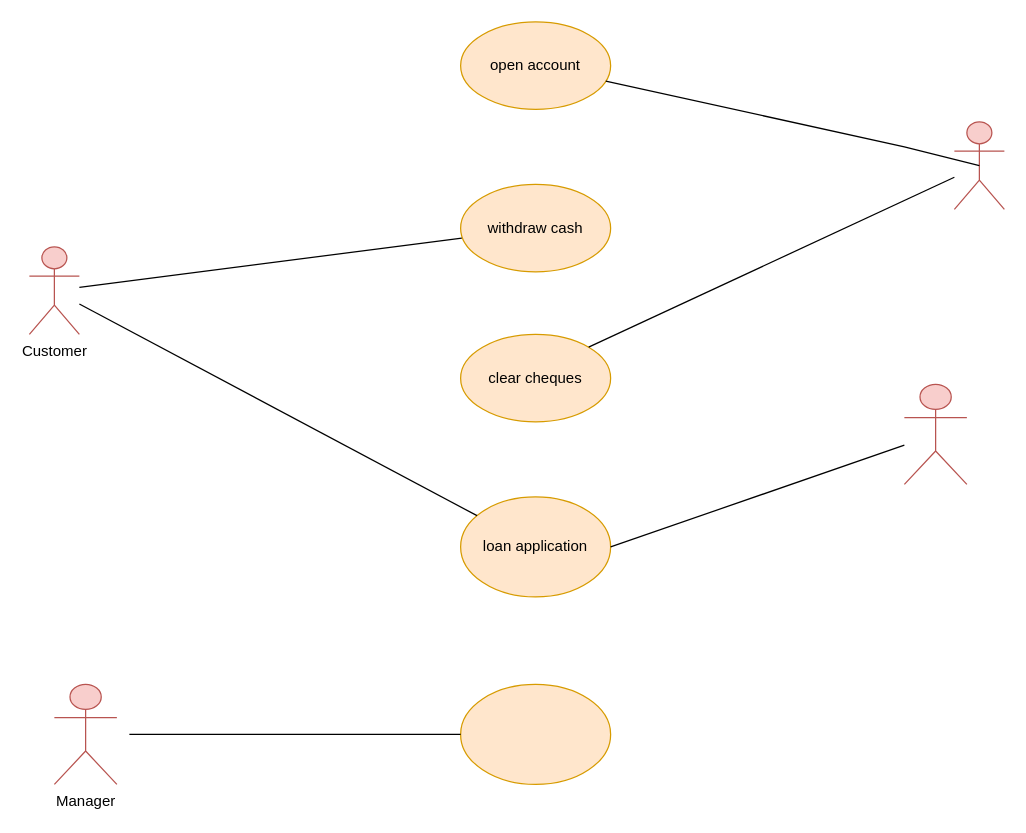
This 1026x833 diagram has some shape labels left out. The box of each missing label's shape, as (x1, y1, x2, y2) in pixels:
Clerk: (953, 121, 1004, 209)
Loan Officer: (903, 383, 967, 484)
reports: (459, 683, 611, 784)
